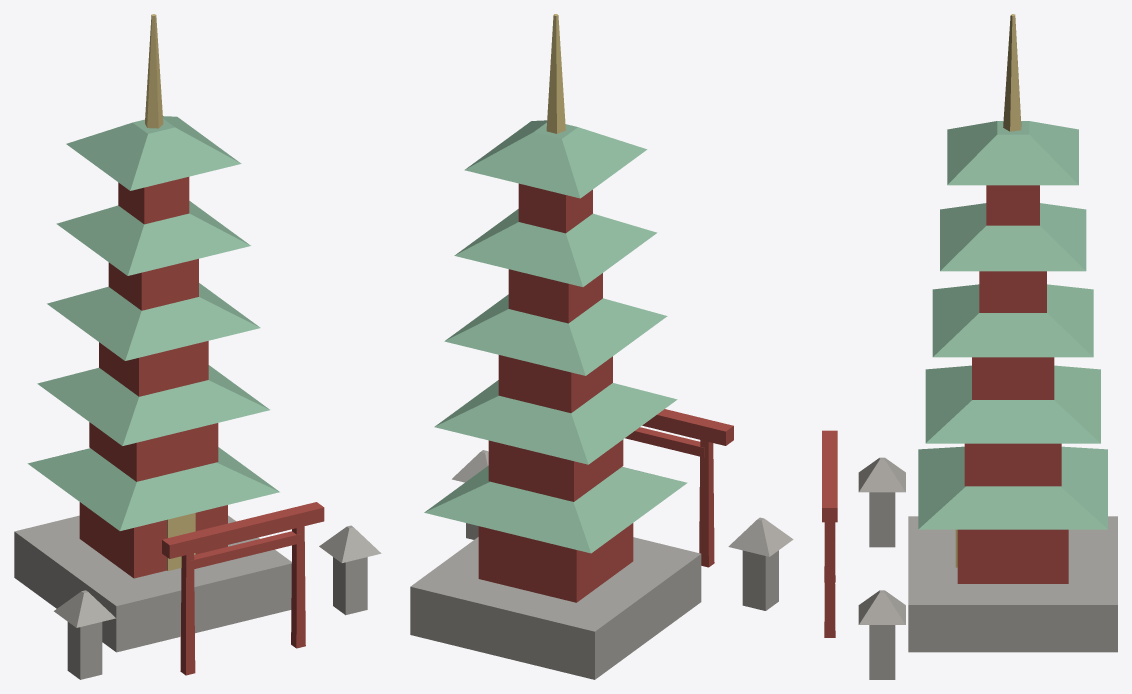
The model's file is pagoda.glb.
The picture shows the model from 3 angles, left to right: view 1: azimuth 30°, elevation 25°; view 2: azimuth 150°, elevation 25°; view 3: azimuth 270°, elevation 25°; orthographic projection. The views are drawn at different scales.
Visible parts, largest first — view 1: LOD0; view 2: LOD0; view 3: LOD0.
Boxes of the visible parts, x1,y1,x2,y2 form: LOD0: (14, 14, 381, 679); LOD0: (410, 14, 793, 679); LOD0: (822, 14, 1117, 679).
Size of what is drawn, in the model's own units: 0.276 by 0.5 by 0.226.
